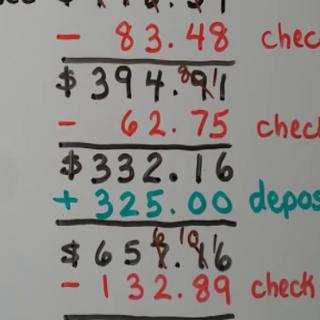.: (167, 169, 181, 185), (172, 290, 185, 302), (168, 205, 179, 218), (170, 87, 180, 98), (169, 125, 179, 135), (174, 261, 184, 271), (167, 40, 176, 50)
0: (211, 190, 234, 215), (187, 192, 206, 215)
1: (99, 272, 111, 301), (195, 153, 205, 183), (220, 71, 227, 104)
2: (142, 151, 163, 185), (118, 191, 141, 217), (154, 274, 174, 301), (149, 110, 164, 138)
3: (91, 65, 115, 99), (115, 150, 137, 186), (91, 152, 111, 186), (93, 187, 113, 218), (145, 22, 163, 54), (127, 272, 144, 302)
4: (186, 21, 206, 52), (146, 68, 162, 101)
5: (209, 107, 229, 140), (148, 190, 165, 218), (124, 239, 141, 267)
6: (118, 109, 138, 139), (216, 150, 234, 183), (214, 243, 233, 274), (93, 239, 114, 266)
7: (190, 108, 207, 135)
8: (115, 20, 137, 50), (209, 20, 229, 53), (191, 273, 212, 303)
9: (115, 65, 134, 100), (213, 275, 231, 307)
